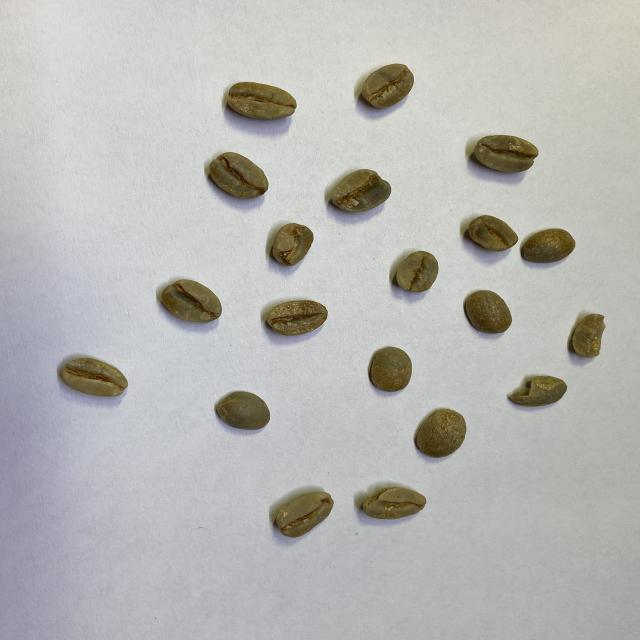bad: (325, 168, 391, 215), (276, 492, 334, 538), (361, 485, 426, 521), (269, 222, 315, 267), (507, 376, 567, 408), (570, 313, 607, 359)
good: (208, 150, 272, 202), (227, 80, 296, 124), (60, 355, 128, 398), (161, 279, 223, 324), (472, 134, 538, 174), (361, 62, 415, 110), (415, 408, 466, 458), (214, 391, 272, 431), (266, 299, 328, 335), (464, 289, 512, 334), (520, 227, 576, 263), (395, 250, 440, 294), (368, 346, 412, 391), (468, 214, 518, 253)
